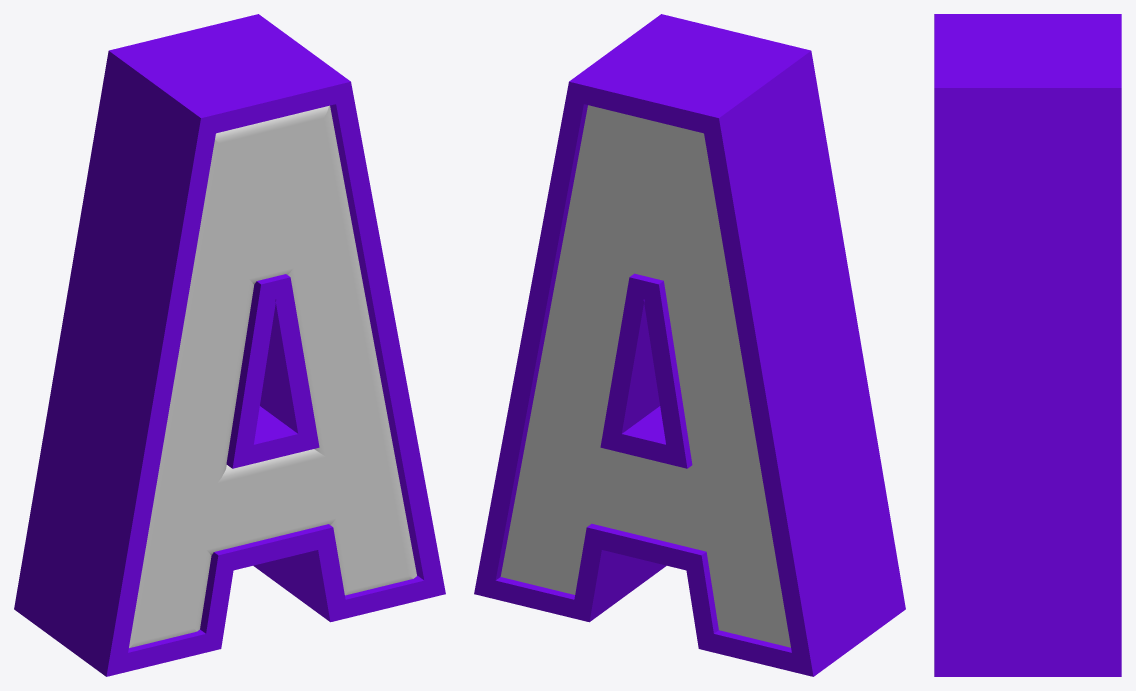
The picture shows the model from 3 angles, left to right: view 1: azimuth 30°, elevation 25°; view 2: azimuth 150°, elevation 25°; view 3: azimuth 270°, elevation 25°; orthographic projection.
Parts seen in each view (by area): view 1: Extrusion Model.000, Extrusion Model; view 2: Extrusion Model.000, Extrusion Model; view 3: Extrusion Model.000.
Part boxes in pixels (x1,y1,x2,y2): Extrusion Model.000: (14,14,445,676); Extrusion Model: (129,105,416,647); Extrusion Model.000: (474,14,905,676); Extrusion Model: (500,105,790,647); Extrusion Model.000: (934,14,1121,676).
Bounding box in the file's own units: 10.11 × 15.25 × 4.77.
